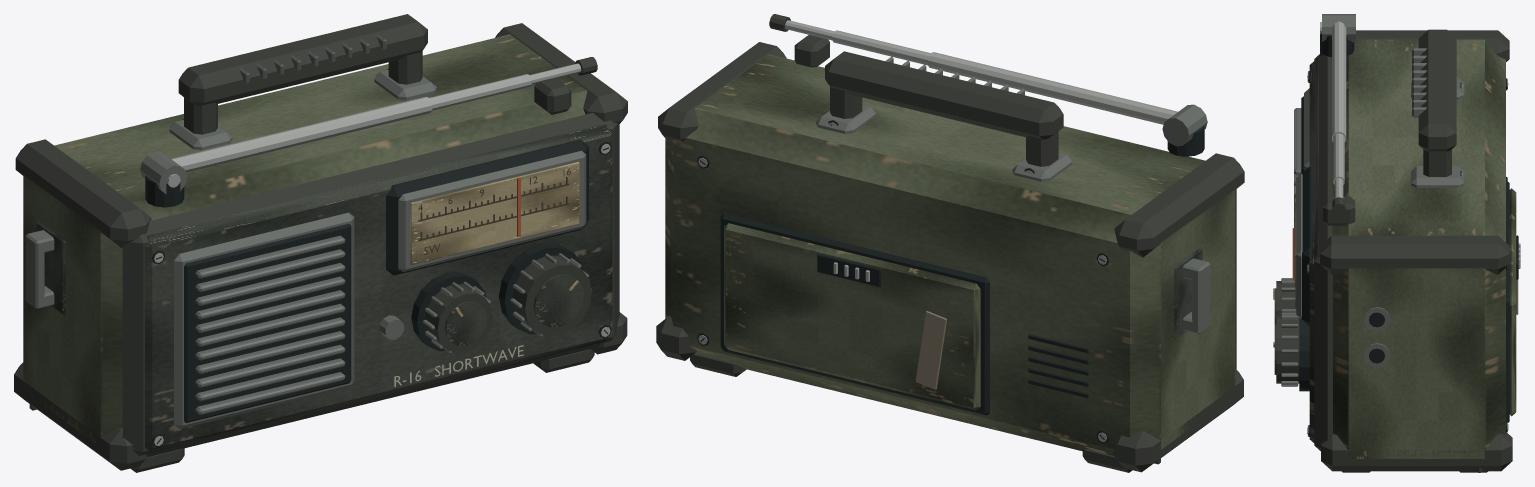
File: shortwave_radio.glb
3 views of the same model, side by side, from view 1: azimuth 30°, elevation 25°; view 2: azimuth 150°, elevation 25°; view 3: azimuth 270°, elevation 25° (orthographic). The views are drawn at different scales.
Visible parts, largest first — view 1: R16Receiver; view 2: R16Receiver; view 3: R16Receiver.
Part boxes in pixels (x1=…): R16Receiver: x1=14, y1=14, x2=627, y2=472; R16Receiver: x1=656, y1=14, x2=1244, y2=472; R16Receiver: x1=1273, y1=14, x2=1520, y2=472.
Bounding box in the file's own units: 0.2899 × 0.172 × 0.1303.
Materials: 11 (3 with a texture image).
